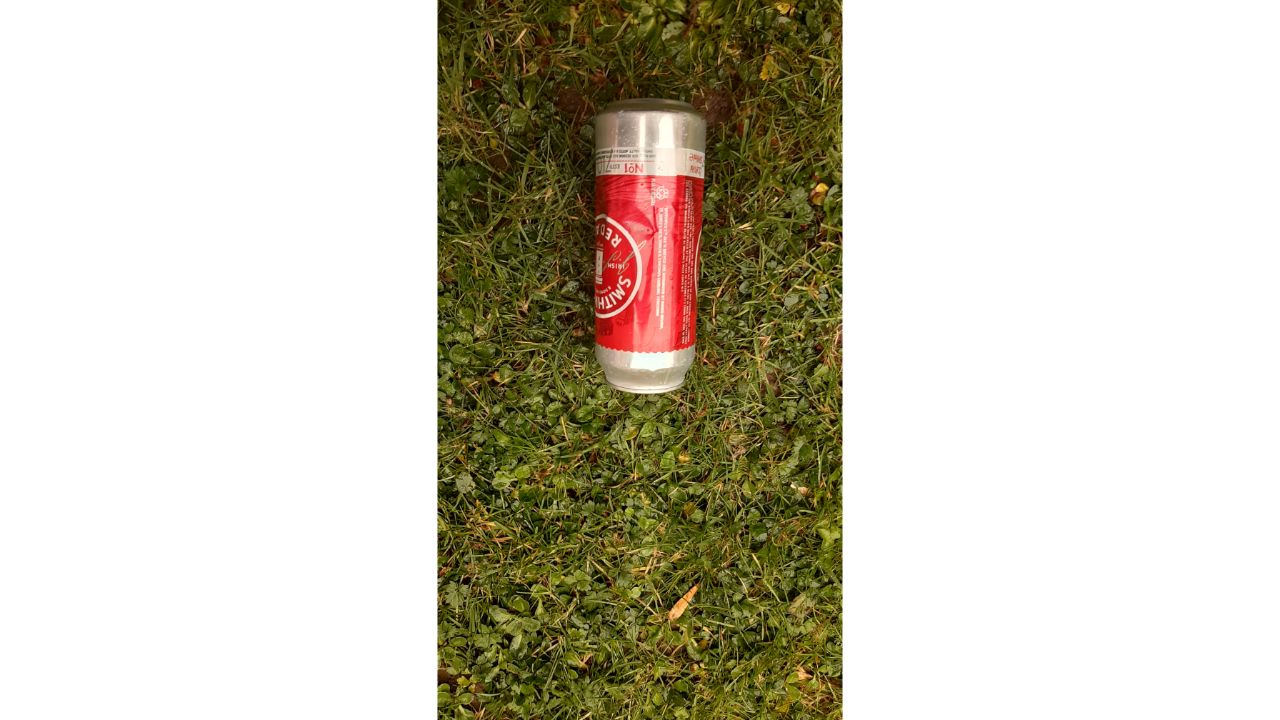Can: (592, 97, 709, 392)
